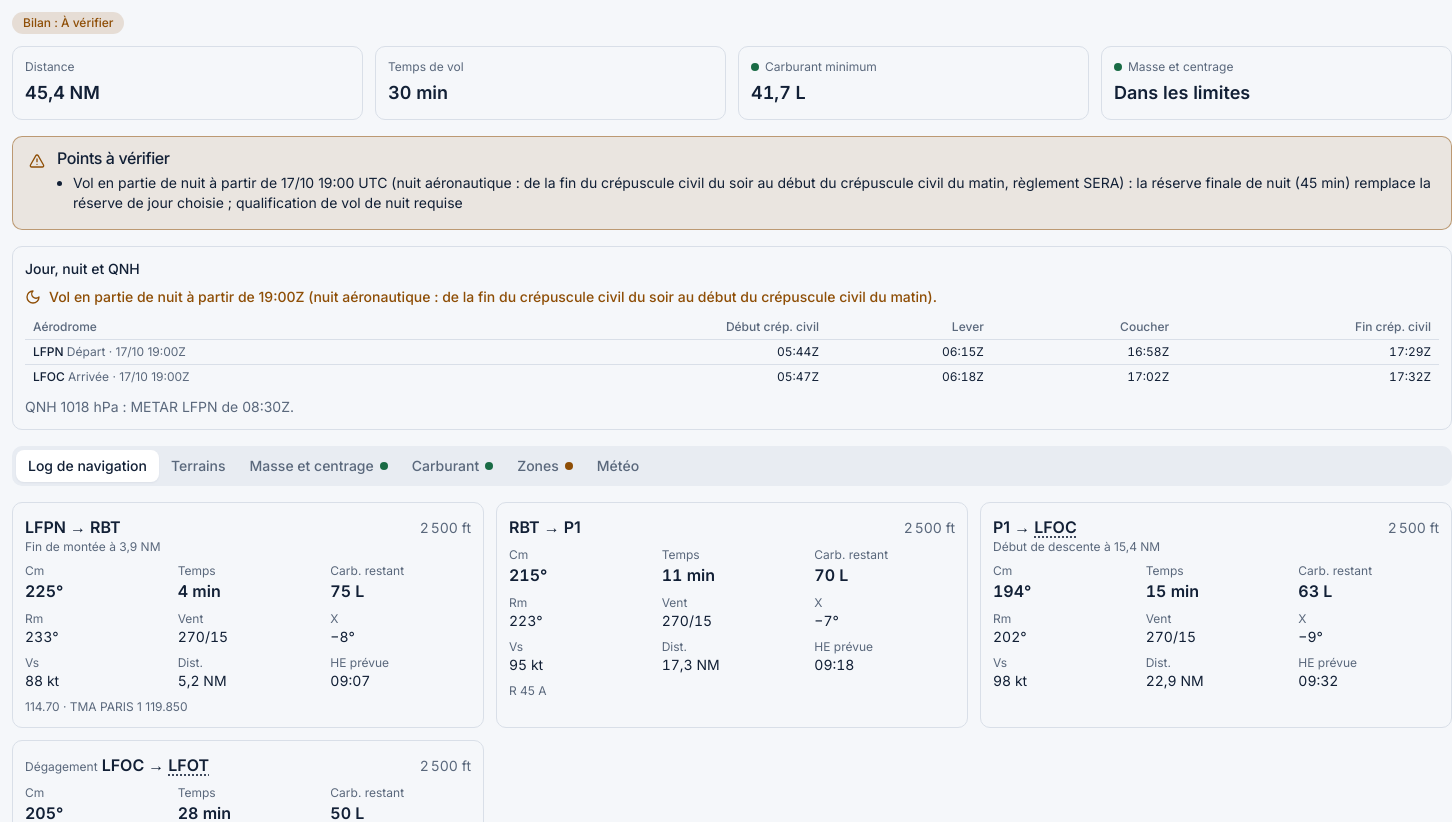
Scenario: ResultsPanel › shows the reserve the API applied to a night flight, not the day case chosen
Click the tab "Carburant": (452, 466) [400, 450, 505, 482]
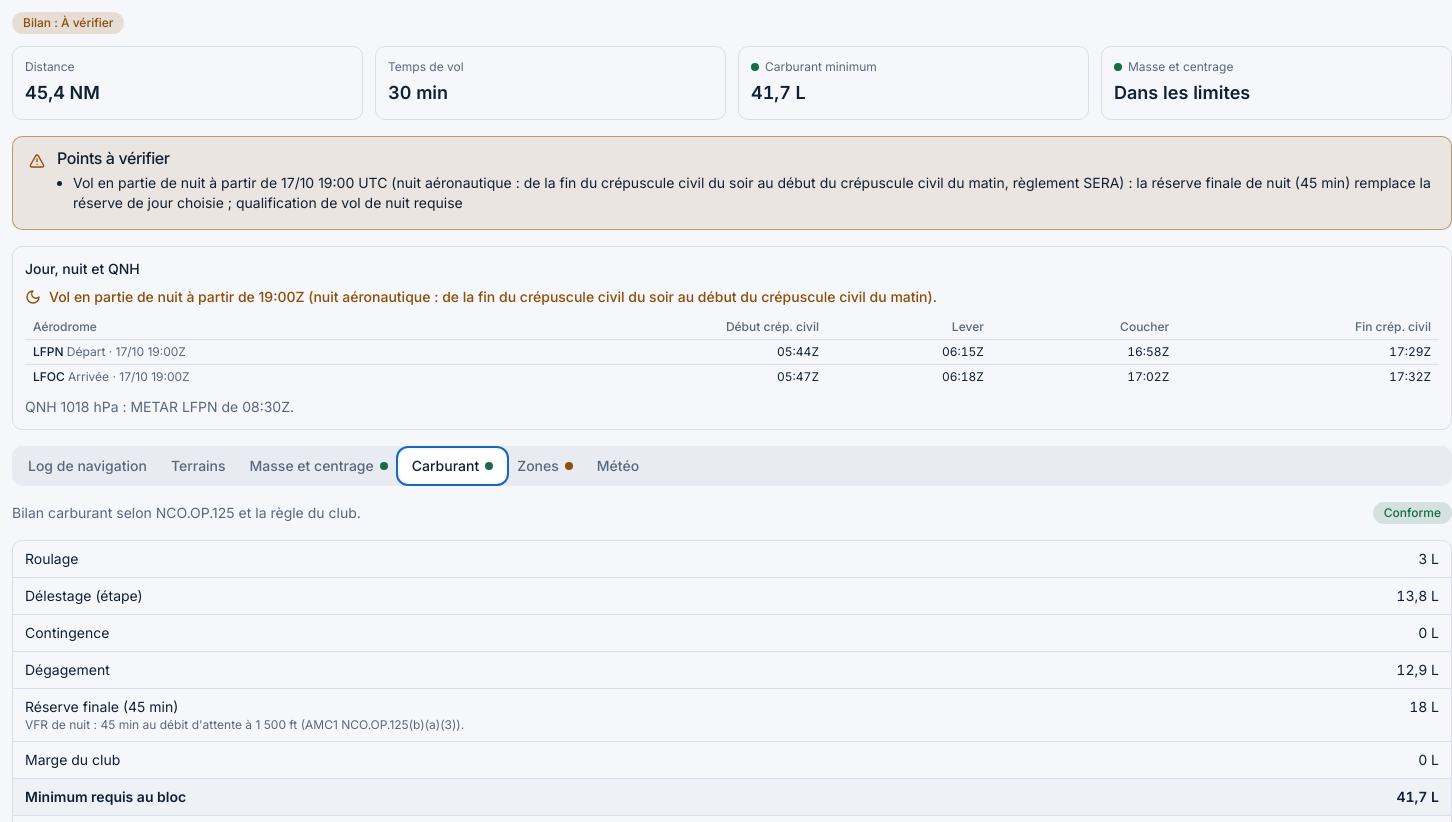
Now the text "VFR de nuit : 45 min au débit d'attente" is shown, box [25, 717, 464, 732]
